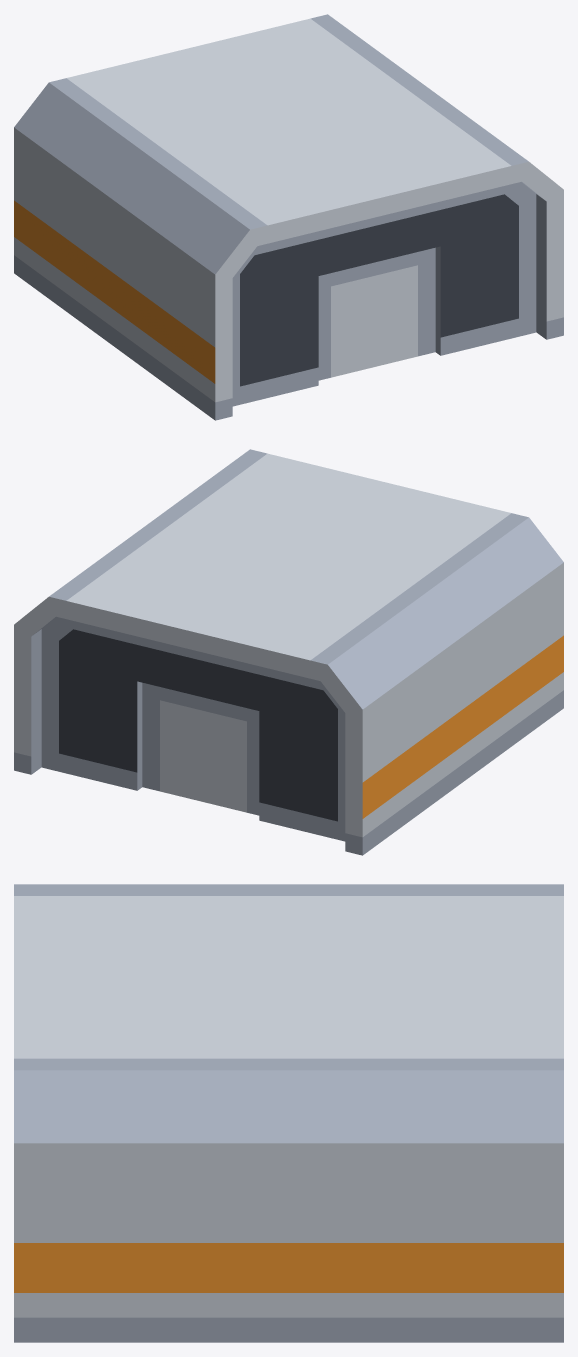
Rendered from hangar_smallA.glb.
The picture shows the model from 3 angles, top to bottom: view 1: azimuth 30°, elevation 25°; view 2: azimuth 150°, elevation 25°; view 3: azimuth 270°, elevation 25°; orthographic projection. The views are drawn at different scales.
Visible parts, largest first — view 1: hangar_smallA, gate; view 2: hangar_smallA, gate; view 3: hangar_smallA.
Boxes of the visible parts, x1,y1,x2,y2 form: hangar_smallA: (14,14,563,420); gate: (232,182,536,406); hangar_smallA: (14,449,563,855); gate: (41,617,345,841); hangar_smallA: (14,884,563,1342).
Bounding box in the file's own units: 2 × 1 × 2.
